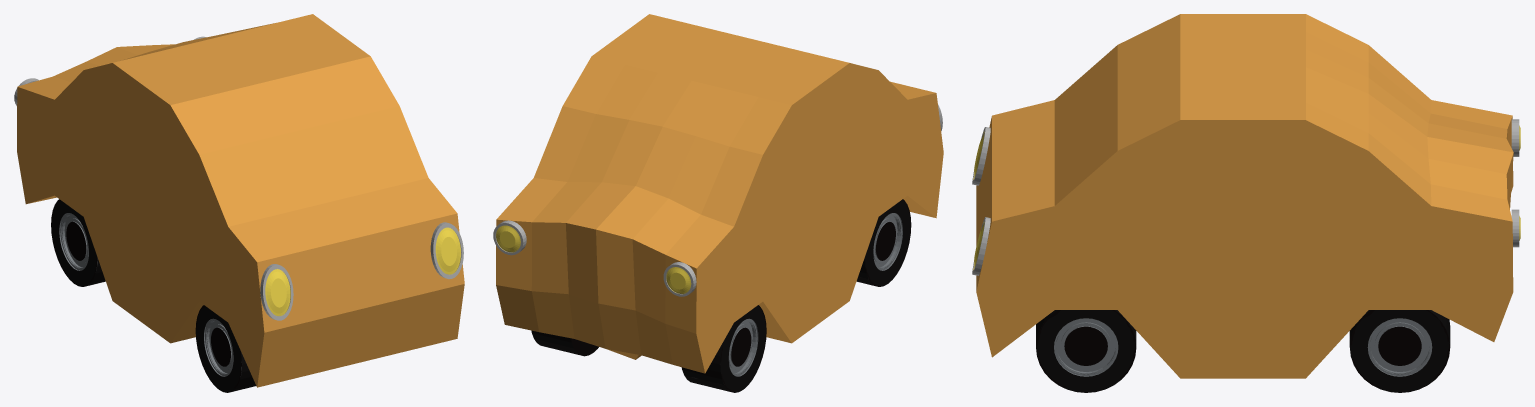
Rendered from SimpleCar.glb.
3 renders of one model, left to right at view 1: azimuth 30°, elevation 25°; view 2: azimuth 150°, elevation 25°; view 3: azimuth 270°, elevation 25°, orthographic. The views are drawn at different scales.
Visible parts, largest first — view 1: Car, Tire1.001, CarLights.001; view 2: Car, Tire1.001, CarLights.001; view 3: Car, Tire1.001, CarLights.001.
Part boxes in pixels (<box>): Car: <box>17,14,464,387</box>; Tire1.001: <box>51,199,256,392</box>; CarLights.001: <box>14,36,463,320</box>; Car: <box>496,14,943,373</box>; Tire1.001: <box>531,199,911,392</box>; CarLights.001: <box>493,104,942,296</box>; Car: <box>976,14,1513,378</box>; Tire1.001: <box>1036,310,1450,392</box>; CarLights.001: <box>972,119,1520,275</box>.
Size of the model in its own units: 2 by 2.42 by 4.37.
3 materials, 2 textured.
